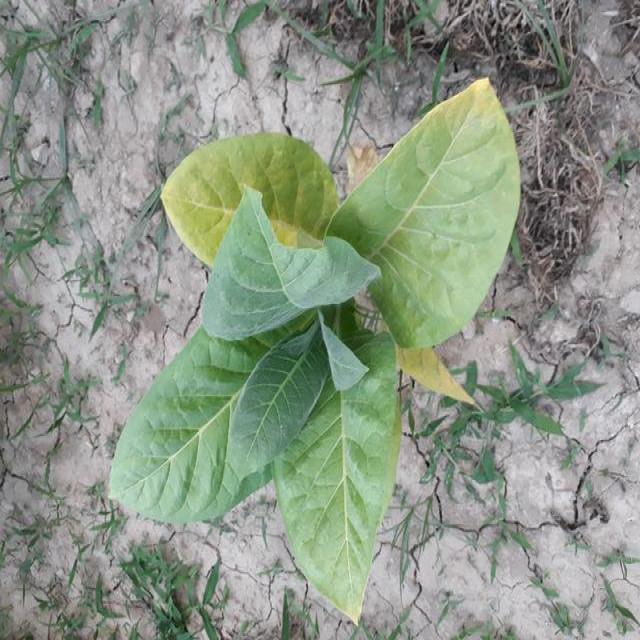crop: (110, 74, 524, 629)
